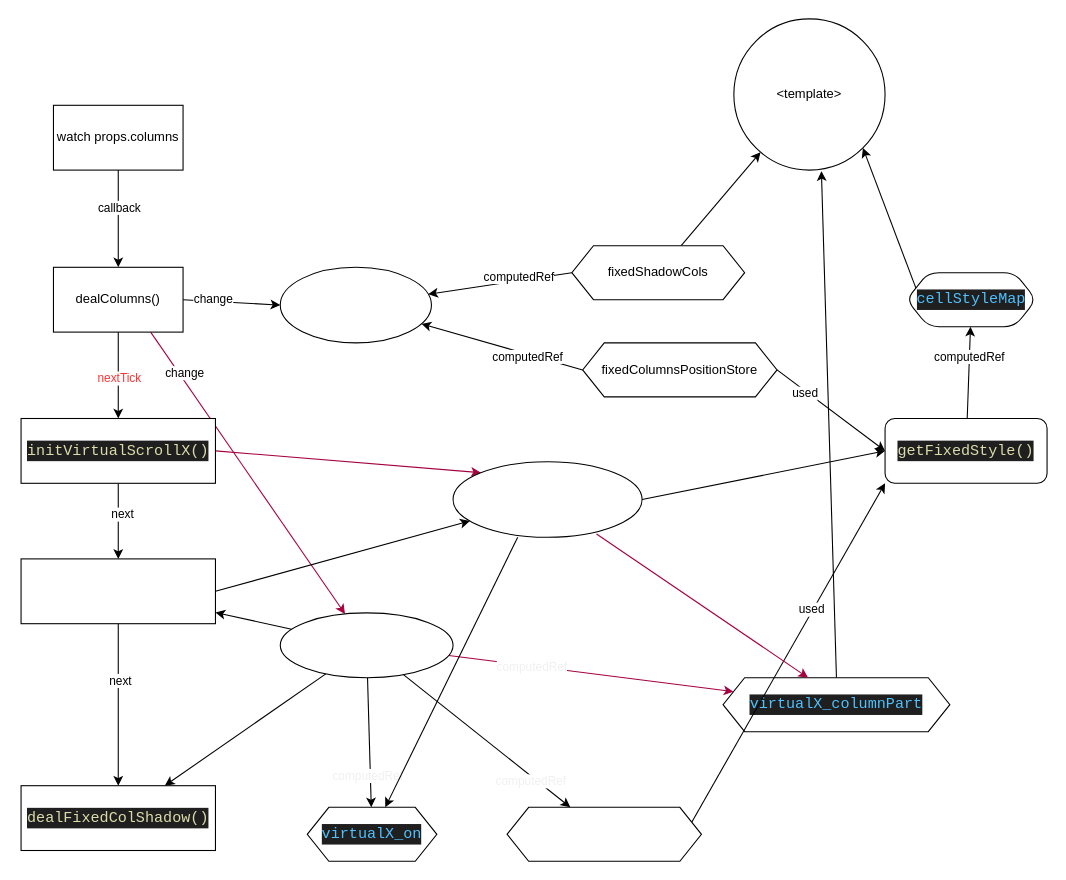
Image size: 1066x880. Some labels were removed from this diagram. The shapes that lost their labels are listed below. From the top down, each one's centre as x and y in pixels, then its label:
the point at 355,304: Ref<tableHeaders>
the point at 547,499: Ref<virtualScrollX>
the point at 117,591: updateVirtualScrollX()
the point at 366,645: Ref<tableHeadersLast>
the point at 603,833: virtualX_offsetRight
